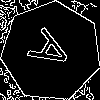A: (26, 26, 82, 80)
